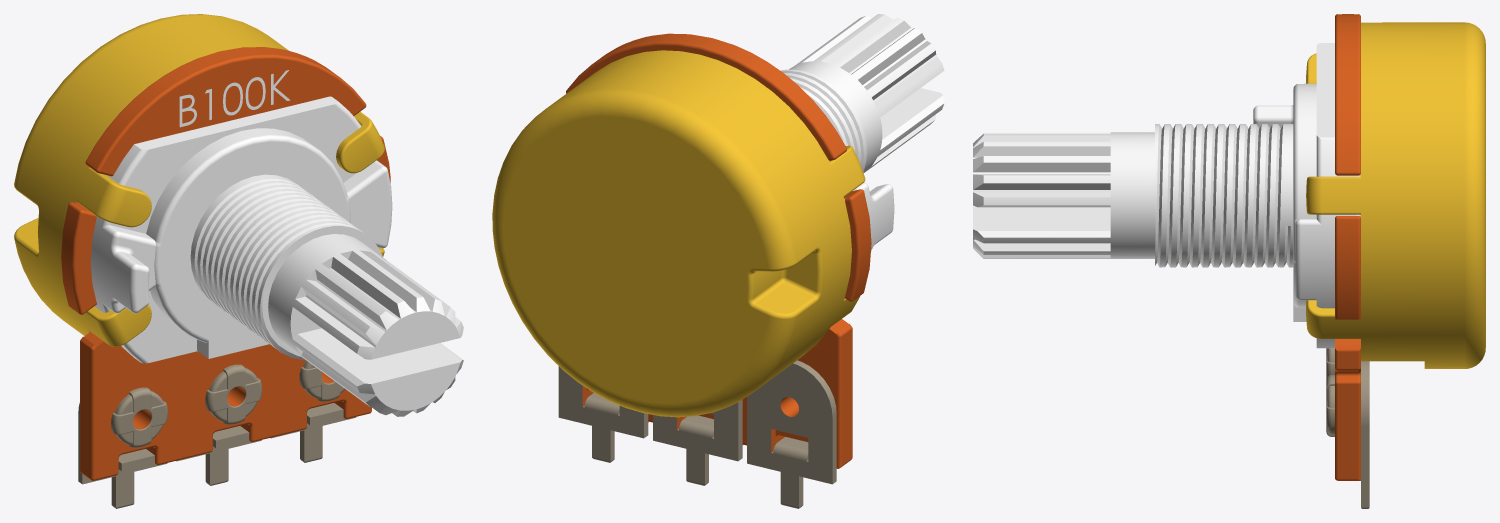
The model's file is Potenciómetro 100K v0.fbx.
3 views of the same model, side by side, from view 1: azimuth 30°, elevation 25°; view 2: azimuth 150°, elevation 25°; view 3: azimuth 270°, elevation 25° (orthographic).
Visible parts, largest first — view 1: Body1; view 2: Body1; view 3: Body1.
Boxes of the visible parts, x1,y1,x2,y2 form: Body1: (14, 14, 463, 508); Body1: (492, 14, 944, 508); Body1: (973, 14, 1485, 508).
Bounding box in the file's own units: 17.2 × 22.4 × 24.25.
